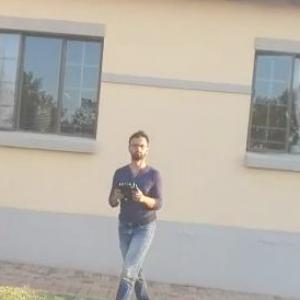follow: (92, 121, 161, 299)
